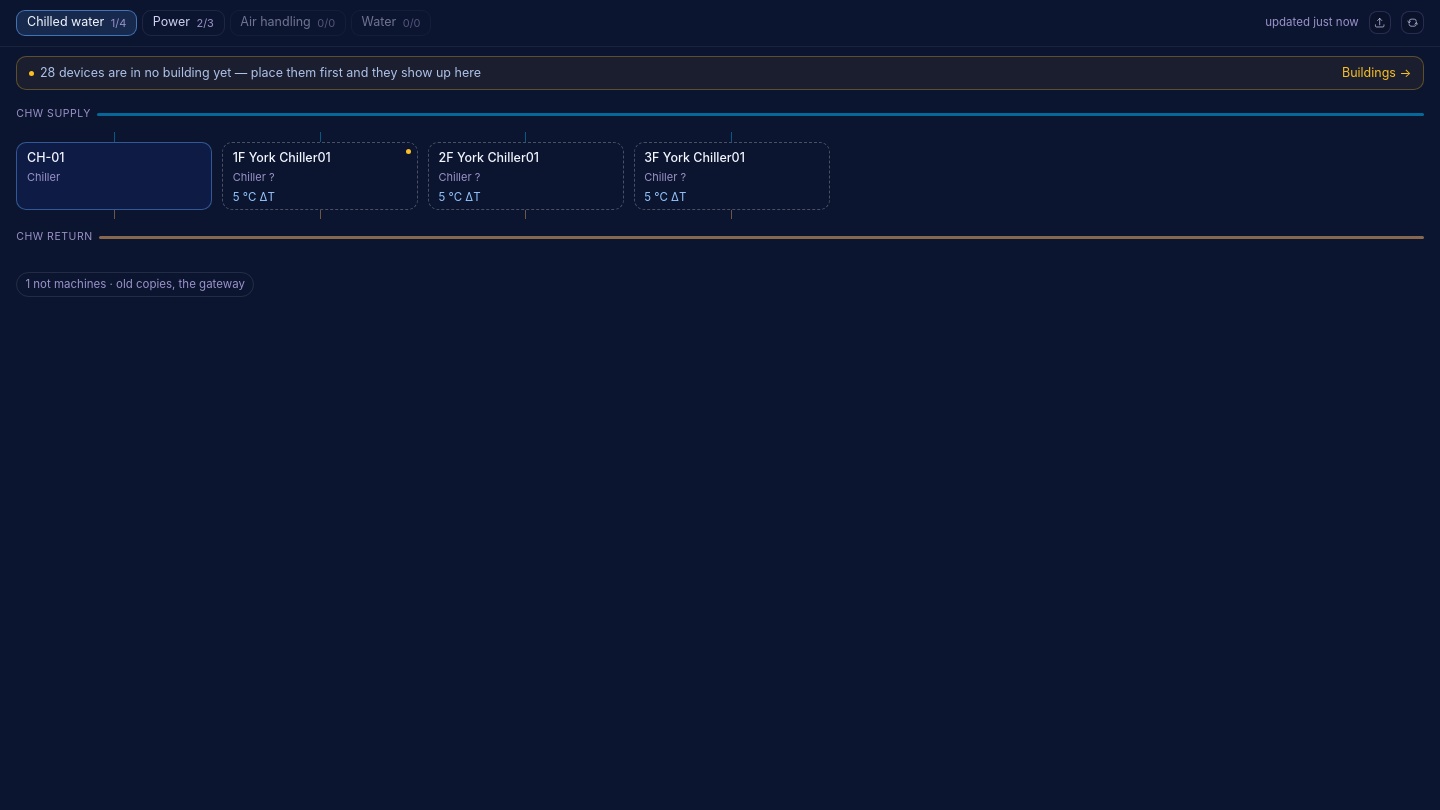
the drawing › hangs a proposal under the saved feeder the engine named
What coordinates should you click on to do the following:
click the tab "Power 2/3"
I would click on:
 (183, 23)
Its box is [142,10,225,36].
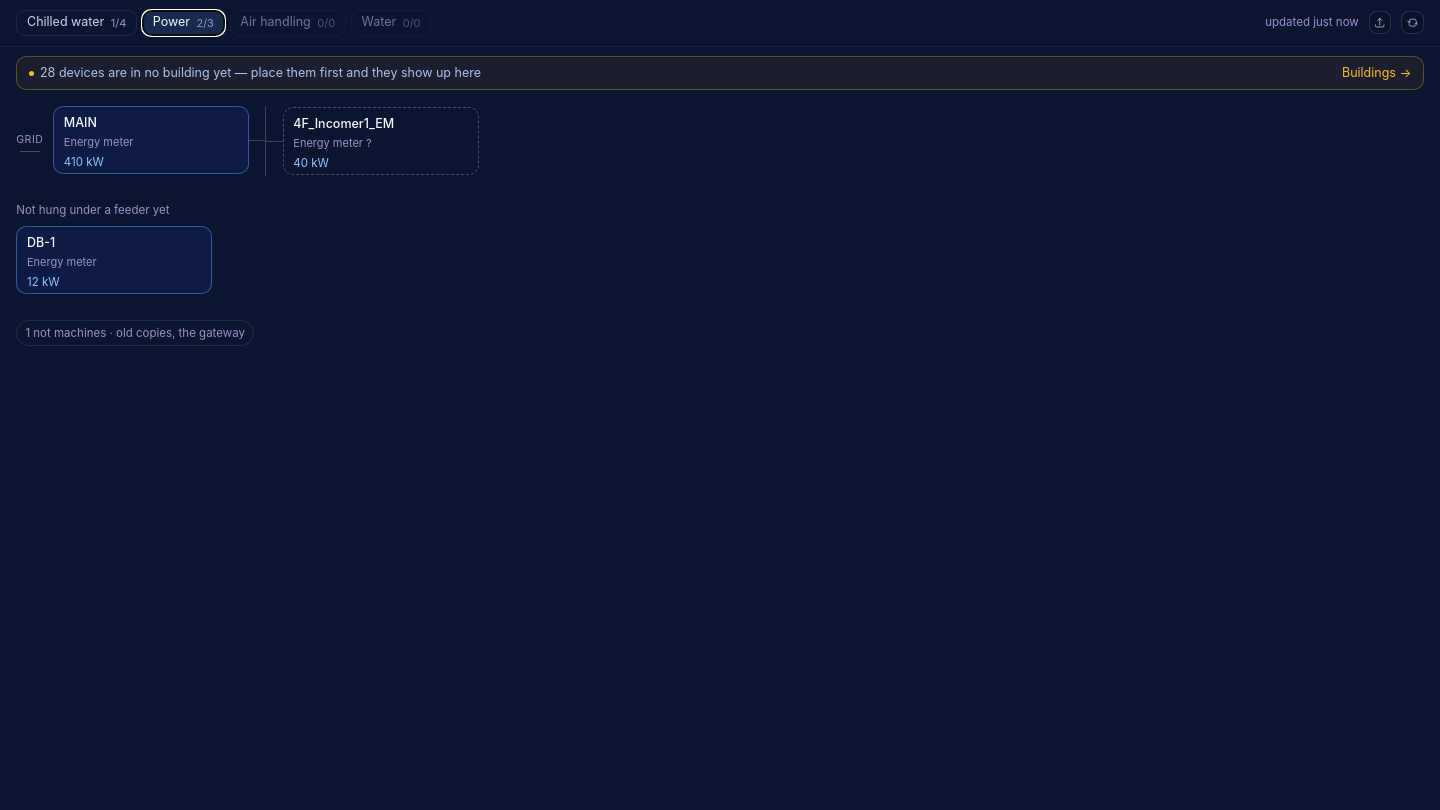
What coordinates should you click on to do the following:
click the button with aria-label "4F_Incomer1_EM — suggested"
I would click on:
 (381, 141)
Its box is [283,107,479,175].
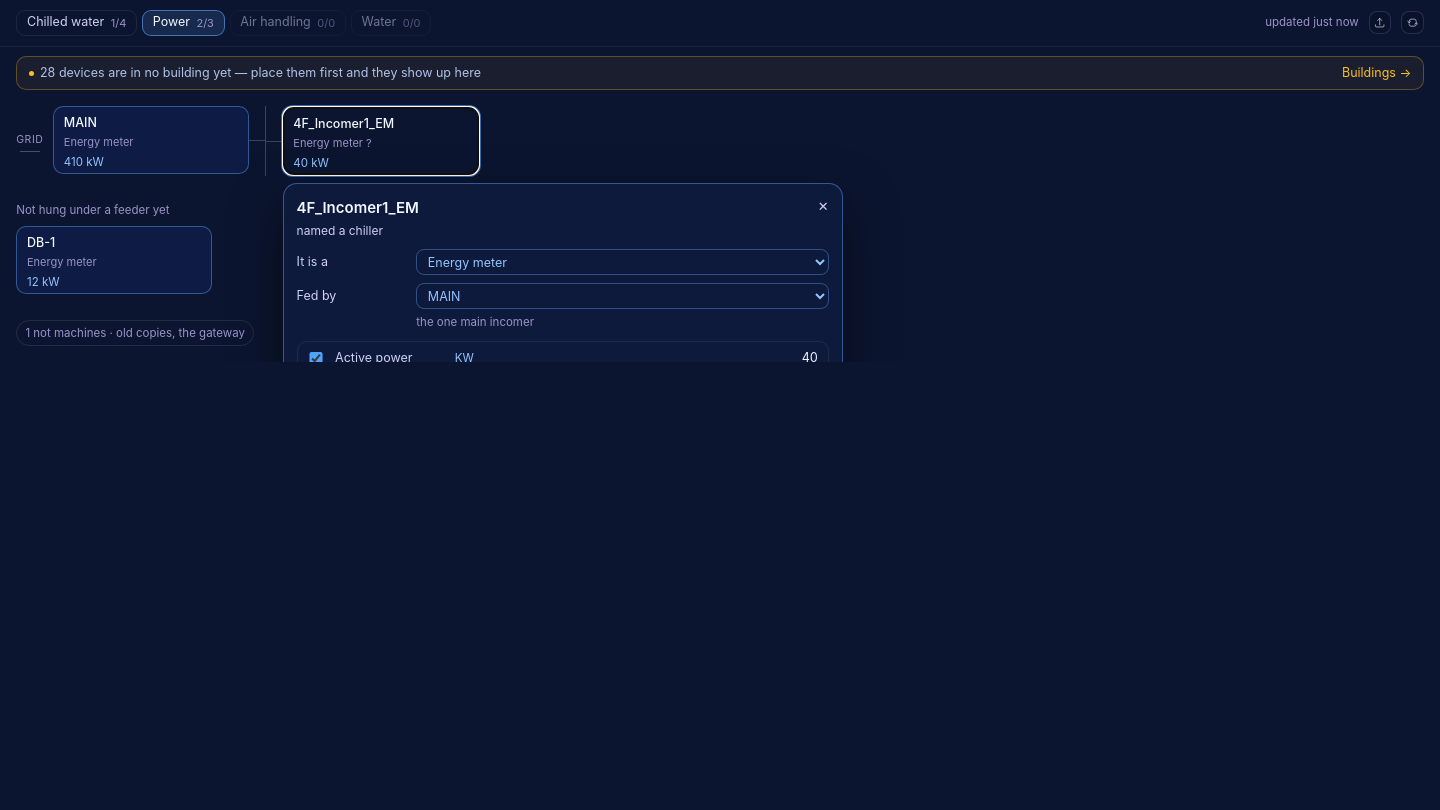
Result: the button "MAIN Energy meter 410 kW" is shown at [53,106,249,174]
Result: the dropdown labelled "Fed by" shows "MAIN" at [416,283,829,309]
